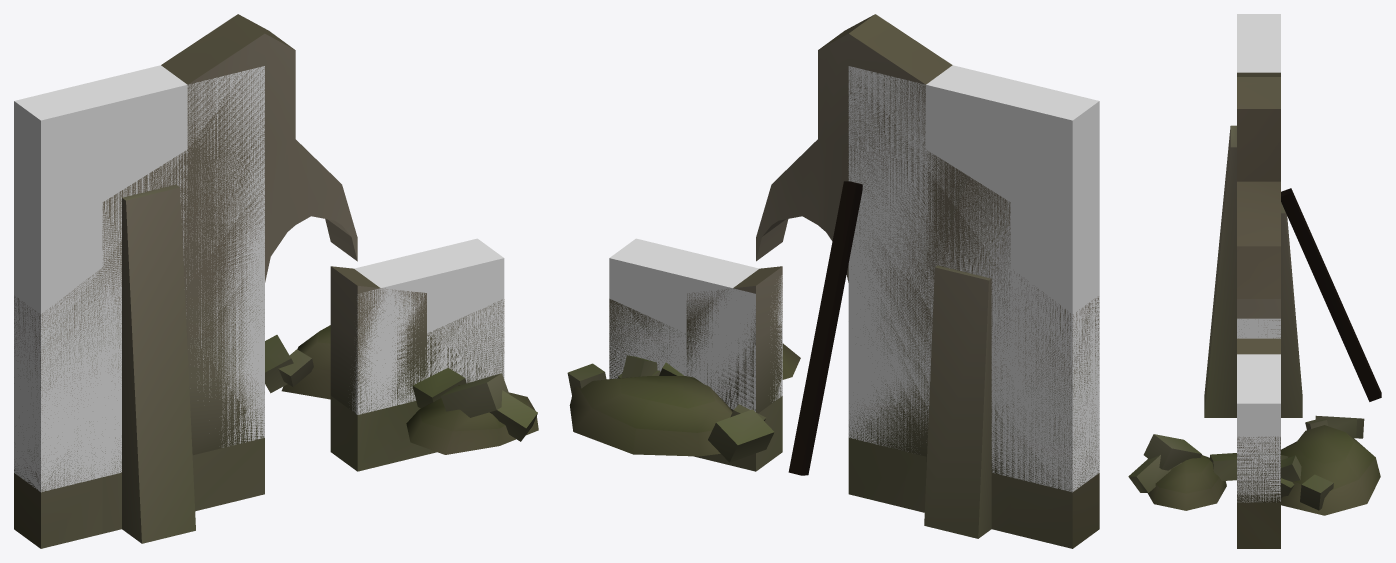
The model's file is ruin_wall_b.glb.
3 renders of one model, left to right at view 1: azimuth 30°, elevation 25°; view 2: azimuth 150°, elevation 25°; view 3: azimuth 270°, elevation 25°, orthographic. The views are drawn at different scales.
Parts seen in each view (by area): view 1: ruin_wall_b, COL_left, COL_right; view 2: ruin_wall_b, COL_left, COL_right; view 3: ruin_wall_b, COL_right, COL_left.
Boxes of the visible parts, left/top/right/bottom form: ruin_wall_b: left=14, top=14, right=538, bottom=548; COL_left: left=14, top=65, right=264, bottom=492; COL_right: left=351, top=238, right=504, bottom=414; ruin_wall_b: left=567, top=14, right=1099, bottom=548; COL_left: left=848, top=65, right=1099, bottom=492; COL_right: left=609, top=238, right=782, bottom=411; ruin_wall_b: left=1128, top=72, right=1381, bottom=548; COL_right: left=1237, top=354, right=1280, bottom=502; COL_left: left=1237, top=14, right=1280, bottom=338.
Size of the model in its own units: 6.23 by 5.7 by 3.48.
